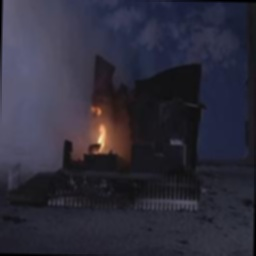fire: (82, 103, 119, 153)
smoke: (0, 0, 83, 133)
